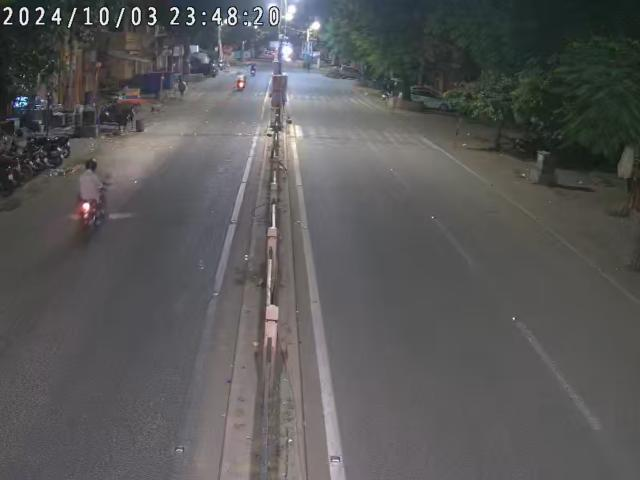helmet: (85, 157, 99, 172)
scooty-rider: (73, 156, 109, 240)
